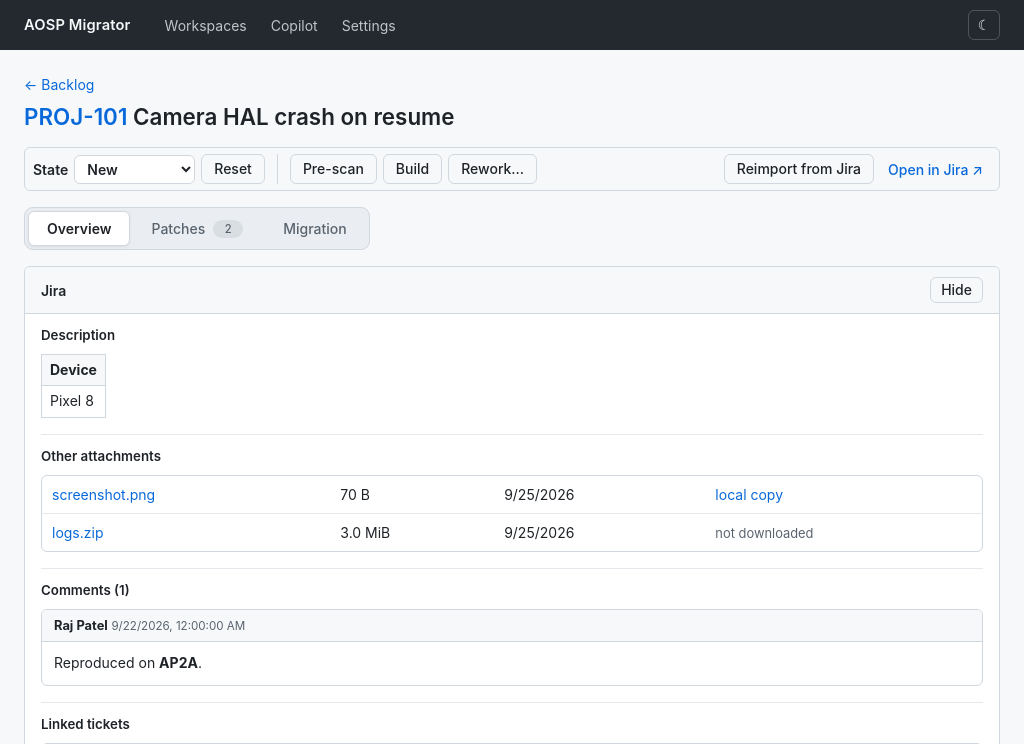
Test: ItemPage › shows a reimport conflict
Click the button "Reimport from Jira" at (799, 169), box [724,154,874,184]
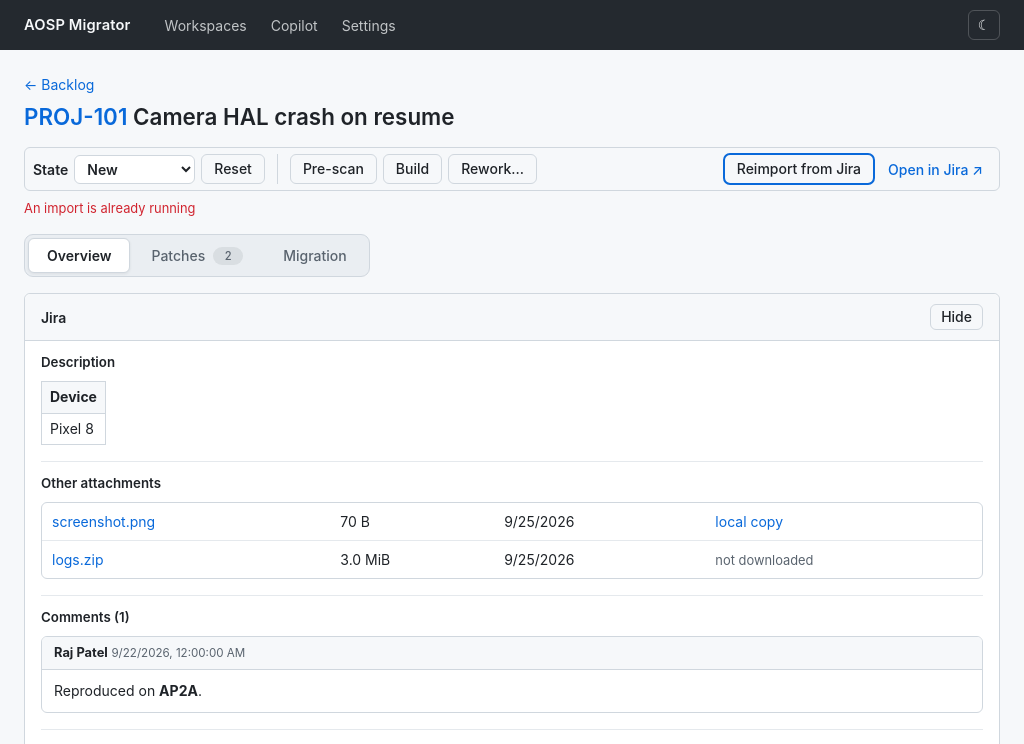
expect the text "An import is already running" is shown: met, box [24,199,196,218]
